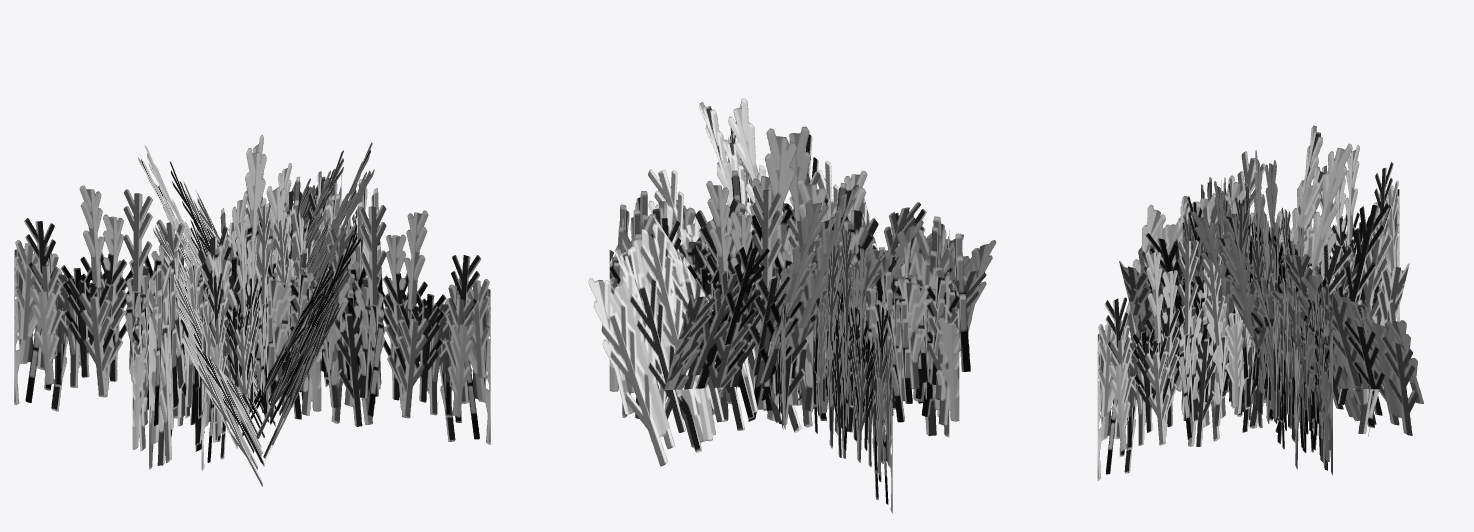
File: forst_A.fbx
3 renders of one model, left to right at view 1: azimuth 30°, elevation 25°; view 2: azimuth 150°, elevation 25°; view 3: azimuth 270°, elevation 25°, orthographic. The views are drawn at different scales.
Visible parts, largest first — view 1: forst_A; view 2: forst_A; view 3: forst_A.
Boxes of the visible parts, x1,y1,x2,y2 form: forst_A: (14,135,490,486); forst_A: (588,98,996,513); forst_A: (1097,125,1423,480).
Size of the model in its own units: 157 by 126 by 133.
Materials: 1 (1 with a texture image).
